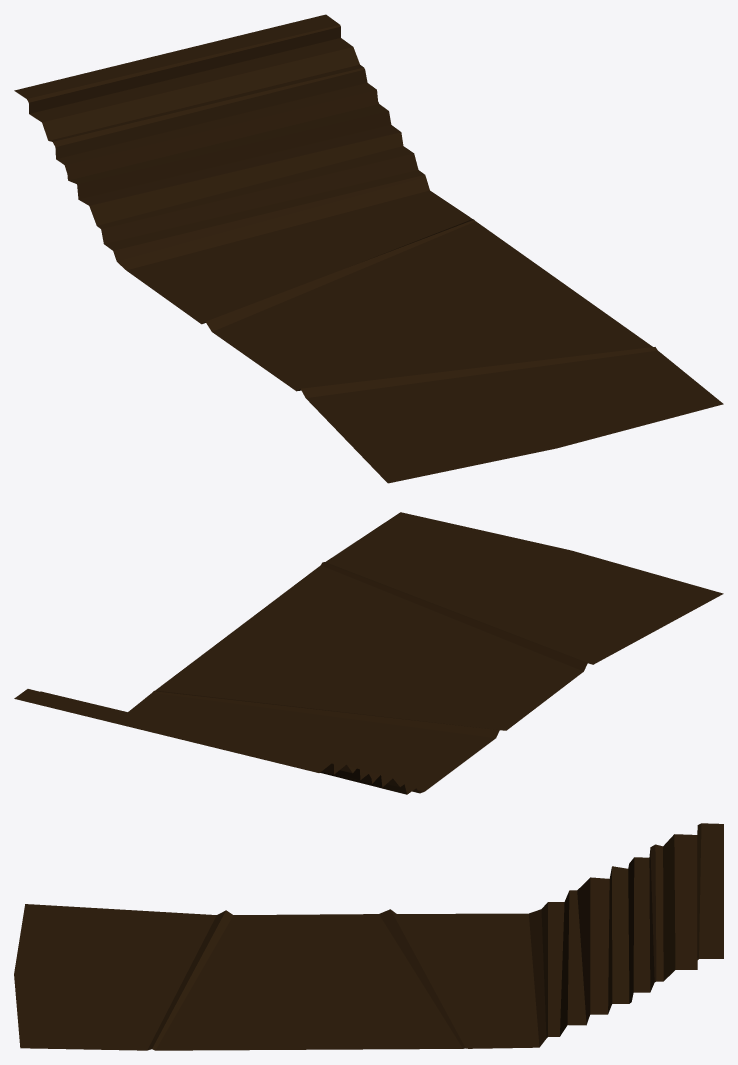
The model's file is Rug_For_Arena.FBX.
3 views of the same model, one above another, from view 1: azimuth 30°, elevation 25°; view 2: azimuth 150°, elevation 25°; view 3: azimuth 270°, elevation 25° (orthographic). The views are drawn at different scales.
Parts seen in each view (by area): view 1: Object008; view 2: Object008; view 3: Object008.
Boxes of the visible parts, left/top/right/bottom form: Object008: left=14, top=14, right=723, bottom=483; Object008: left=14, top=512, right=723, bottom=794; Object008: left=14, top=823, right=723, bottom=1050.
Bounding box in the file's own units: 806 × 229 × 1648.
